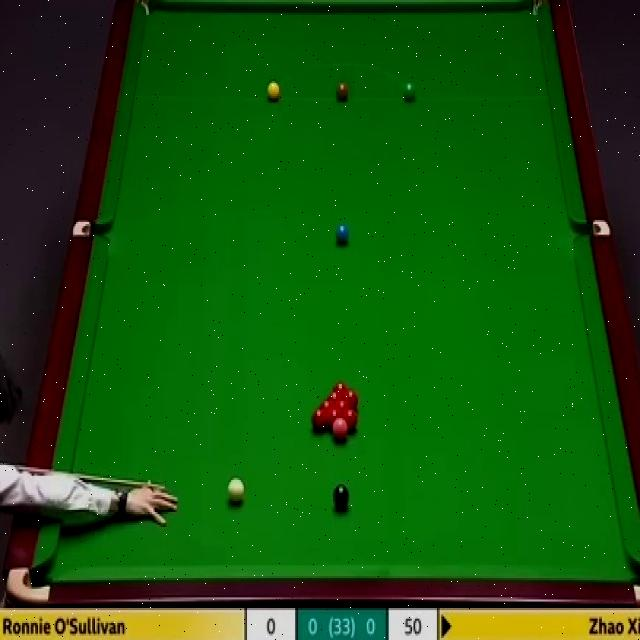black-ball: (333, 482, 351, 512)
blue-ball: (334, 222, 351, 248)
brown-ball: (336, 82, 350, 104)
green-ball: (404, 81, 418, 104)
pink-ball: (331, 417, 350, 444)
red-ball: (310, 408, 328, 432), (343, 406, 359, 432), (326, 408, 343, 430), (344, 390, 358, 409), (335, 399, 352, 411), (331, 381, 349, 392), (326, 391, 344, 401), (320, 399, 336, 410)
white-ball: (227, 475, 246, 505)
yellow-ball: (266, 80, 280, 103)
